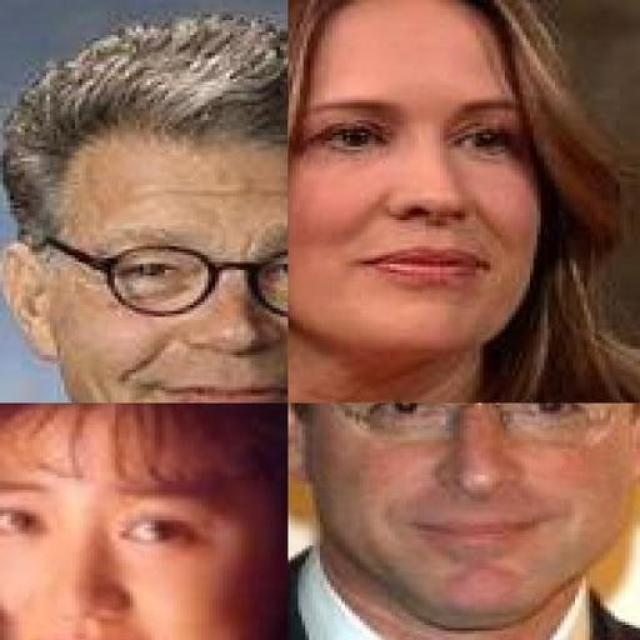bareface: (312, 0, 586, 372)
